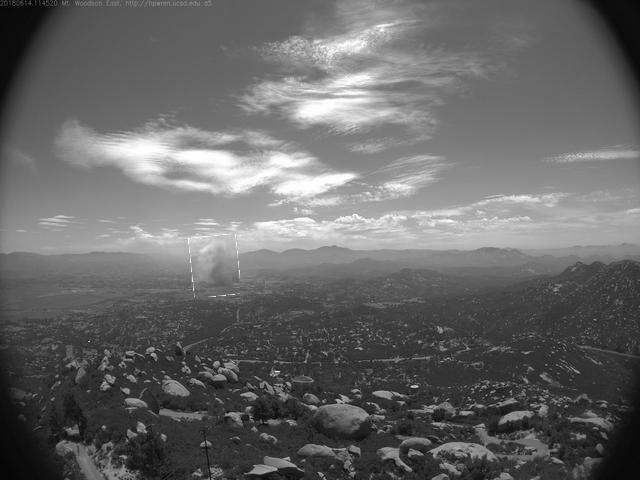smoke: (191, 236, 241, 298)
